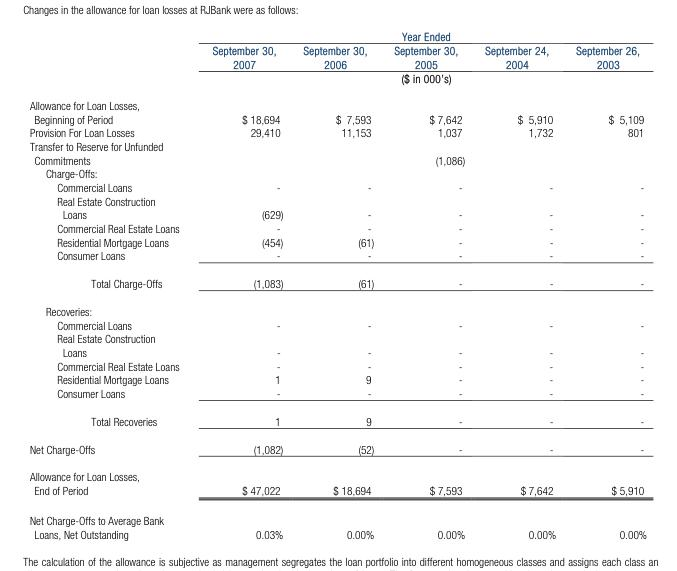table: (28, 29, 646, 540)
table column: (28, 29, 195, 540), (195, 29, 292, 540), (292, 29, 383, 540), (383, 29, 474, 540), (474, 29, 565, 540), (565, 29, 646, 540)
table column header: (28, 29, 646, 91)
table projected row header: (28, 505, 646, 527), (28, 296, 646, 317), (28, 462, 646, 483), (28, 91, 646, 111), (28, 166, 646, 180), (28, 193, 646, 207), (28, 139, 646, 152), (28, 331, 646, 344)
table row: (28, 42, 646, 70), (28, 406, 646, 434), (28, 434, 646, 462), (28, 269, 646, 296), (28, 483, 646, 505), (28, 505, 646, 527), (28, 70, 646, 91), (28, 248, 646, 269), (28, 296, 646, 317), (28, 385, 646, 406), (28, 462, 646, 483), (28, 91, 646, 111), (28, 111, 646, 125), (28, 125, 646, 139), (28, 152, 646, 166), (28, 166, 646, 180), (28, 193, 646, 207), (28, 207, 646, 221), (28, 234, 646, 248), (28, 317, 646, 331), (28, 344, 646, 358), (28, 358, 646, 372), (28, 29, 646, 42), (28, 139, 646, 152), (28, 180, 646, 193), (28, 221, 646, 234), (28, 331, 646, 344), (28, 372, 646, 385), (28, 527, 646, 540)
table spanning cell: (195, 70, 646, 91), (195, 29, 646, 42)
